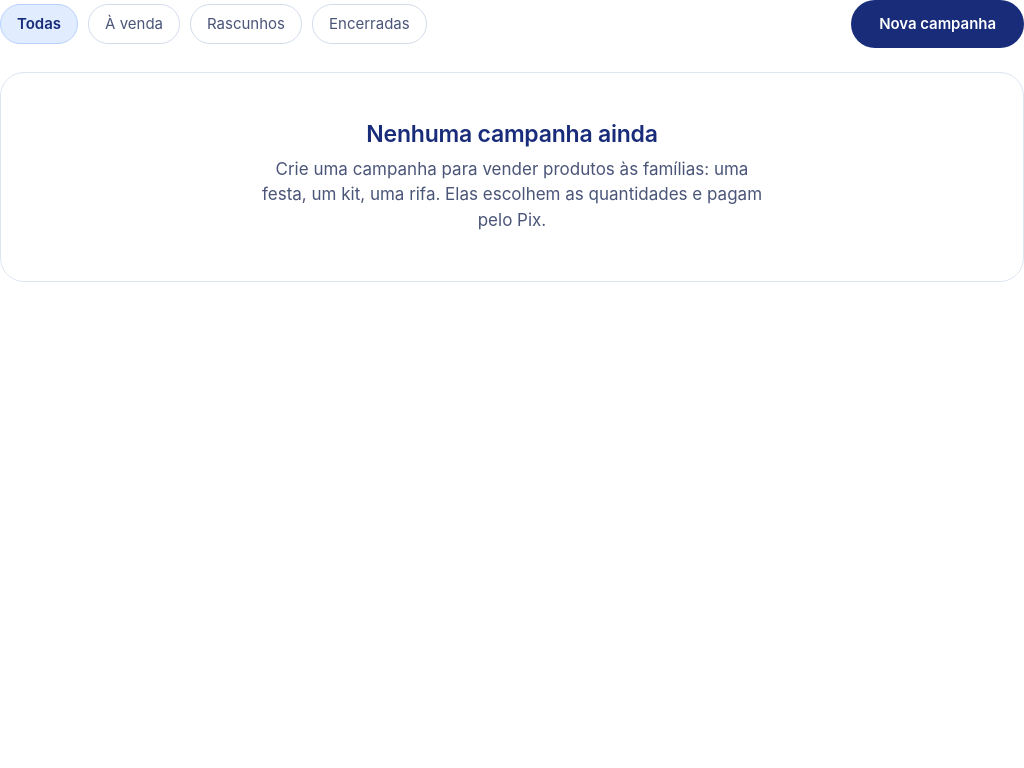
Scenario: nova campanha › pede o titulo antes de falar com a API
Check: the heading "Nenhuma campanha ainda" is shown, box [366,120,658,148]
Click the button "Nova campanha" at (938, 24), box [851,0,1023,48]
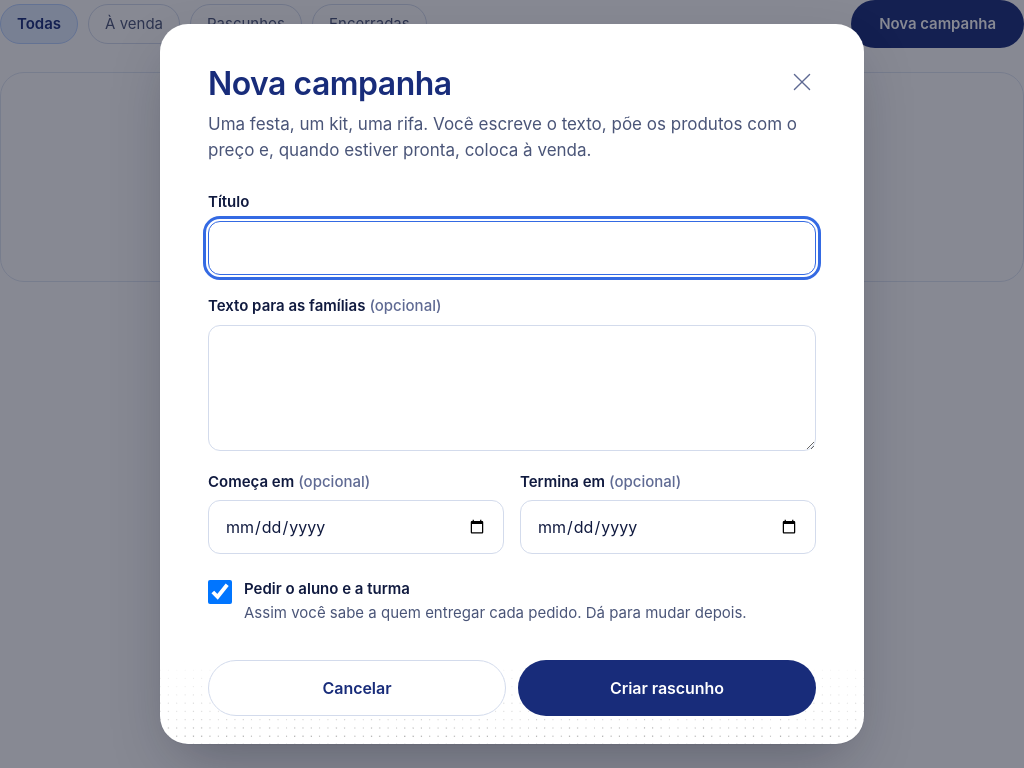
Click the button "Criar rascunho" at (667, 688), box [518,660,816,716]
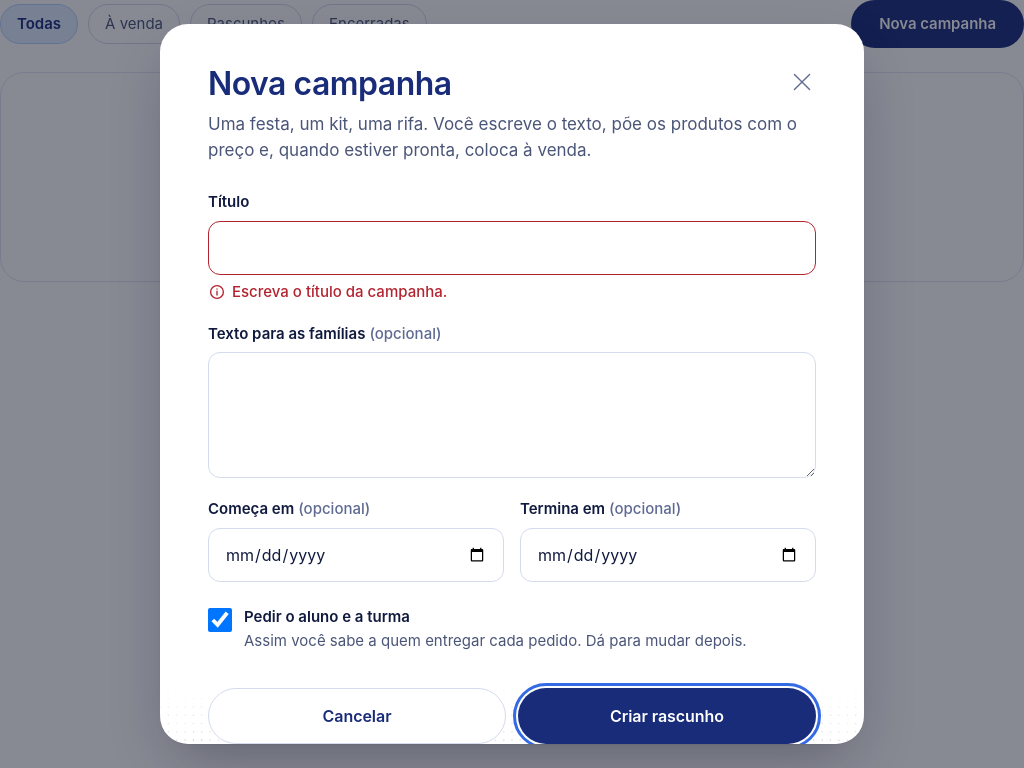
Check: the text "Escreva o título da campanha." is shown, box [208,282,447,301]
